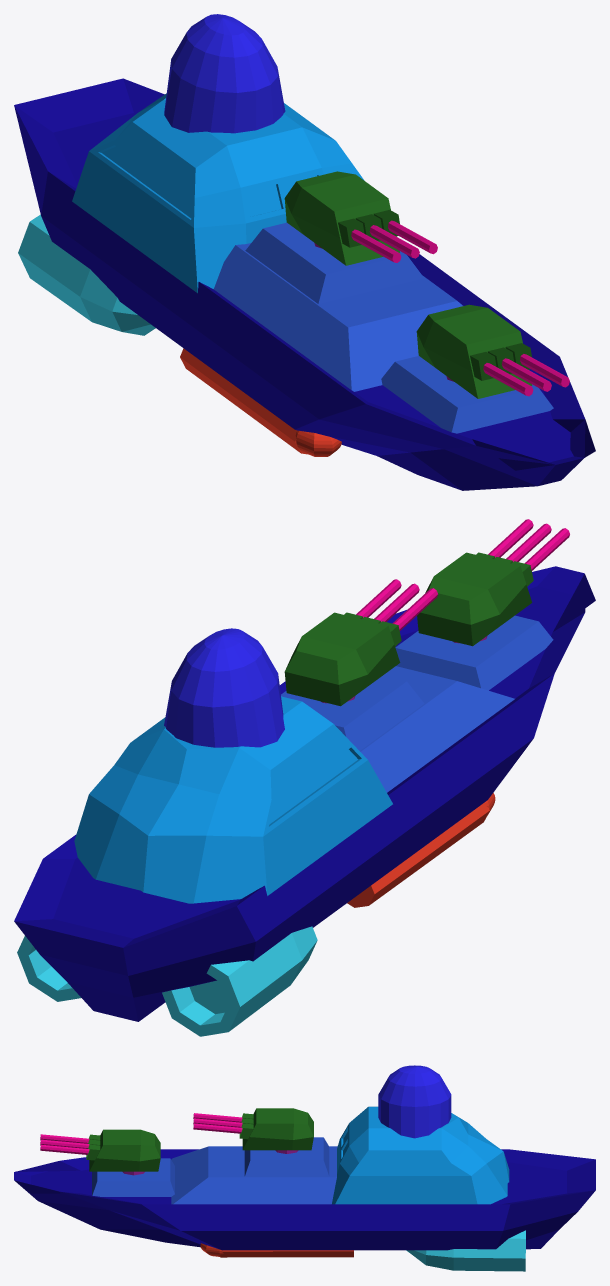
Rendered from ship.gltf.
3 renders of one model, top to bottom at view 1: azimuth 30°, elevation 25°; view 2: azimuth 150°, elevation 25°; view 3: azimuth 270°, elevation 25°, orthographic. The views are drawn at different scales.
Visible parts, largest first — view 1: Cube, 立方体.002, 立方体, 円柱, 立方体.018, 立方体.001, 立方体.010, 円柱.008, 円柱.002, 球.001, 円柱.014, 円柱.004 (+4 smaller); view 2: Cube, 立方体.002, 立方体, 円柱, 円柱.008, 立方体.001, 立方体.010, 立方体.018, 円柱.002, 円柱.007; view 3: Cube, 立方体.002, 立方体, 円柱, 立方体.001, 立方体.010, 円柱.007, 立方体.018, 円柱.001, 円柱.006, 円柱.016, 円柱.004 (+3 smaller).
Boxes of the visible parts, x1,y1,x2,y2 form: Cube: [14, 78, 595, 490]; 立方体.002: [72, 93, 364, 293]; 立方体: [214, 222, 462, 391]; 円柱: [164, 14, 285, 133]; 立方体.018: [381, 356, 553, 433]; 立方体.001: [284, 171, 399, 265]; 立方体.010: [416, 304, 532, 398]; 円柱.008: [18, 214, 155, 335]; 円柱.002: [180, 348, 307, 454]; 球.001: [295, 430, 341, 456]; 円柱.014: [483, 363, 533, 396]; 円柱.004: [351, 229, 401, 262]; Cube: [14, 566, 595, 1021]; 立方体.002: [74, 696, 392, 903]; 立方体: [281, 666, 514, 792]; 円柱: [164, 628, 284, 747]; 円柱.008: [162, 926, 317, 1036]; 立方体.001: [284, 612, 400, 706]; 立方体.010: [417, 552, 532, 646]; 立方体.018: [395, 615, 553, 690]; 円柱.002: [347, 803, 489, 907]; 円柱.007: [17, 936, 80, 1001]; Cube: [14, 1149, 595, 1250]; 立方体.002: [332, 1106, 509, 1204]; 立方体: [171, 1137, 337, 1204]; 円柱: [378, 1065, 451, 1138]; 立方体.001: [242, 1108, 313, 1150]; 立方体.010: [89, 1129, 160, 1171]; 円柱.007: [406, 1230, 525, 1271]; 立方体.018: [92, 1158, 174, 1196]; 円柱.001: [220, 1250, 353, 1257]; 円柱.006: [193, 1123, 242, 1133]; 円柱.016: [40, 1144, 89, 1154]; 円柱.004: [193, 1113, 242, 1122].
Size of the model in its own units: 4.18 by 5.53 by 15.92.
